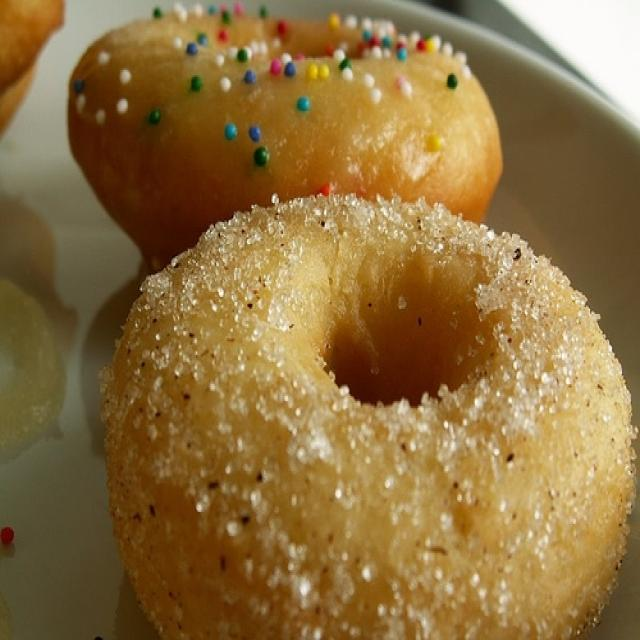炸货点心: (44, 16, 627, 634)
